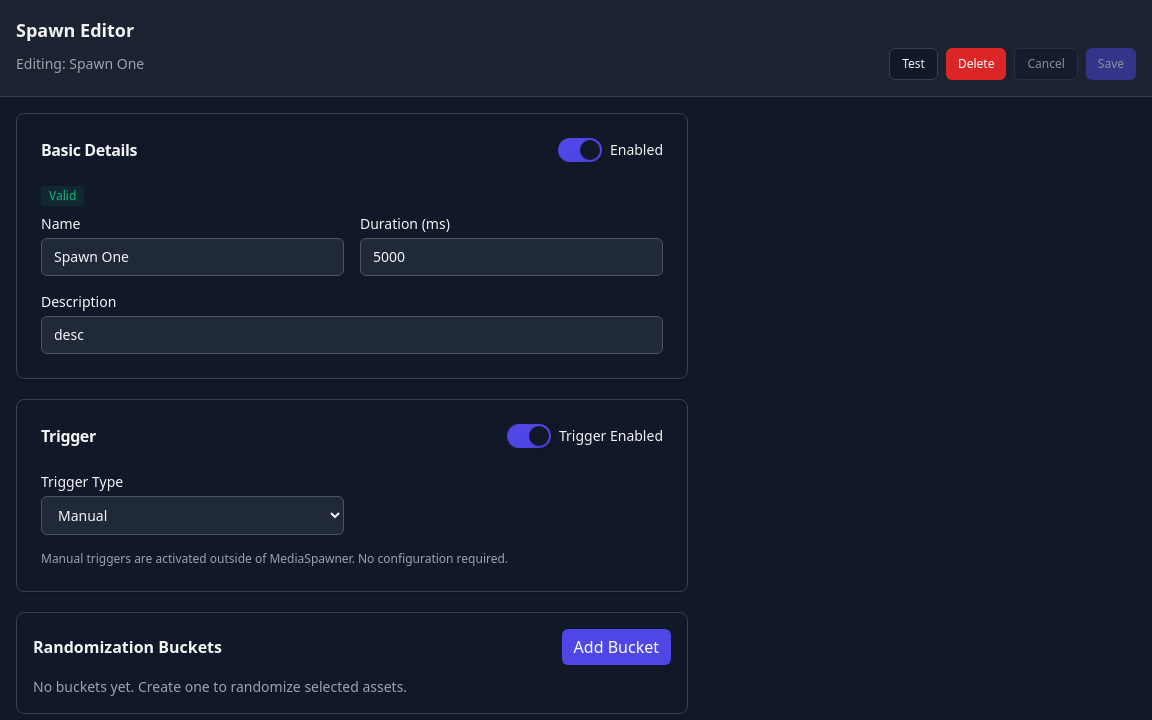
Scenario: SpawnEditorWorkspace (MS-44 Defaults) › cancel reverts form changes
This screenshot has width=1152, height=720.
Replace the text in the field labelled "Name" with "Changed Name" at (192, 257), box [41,238,344,276]
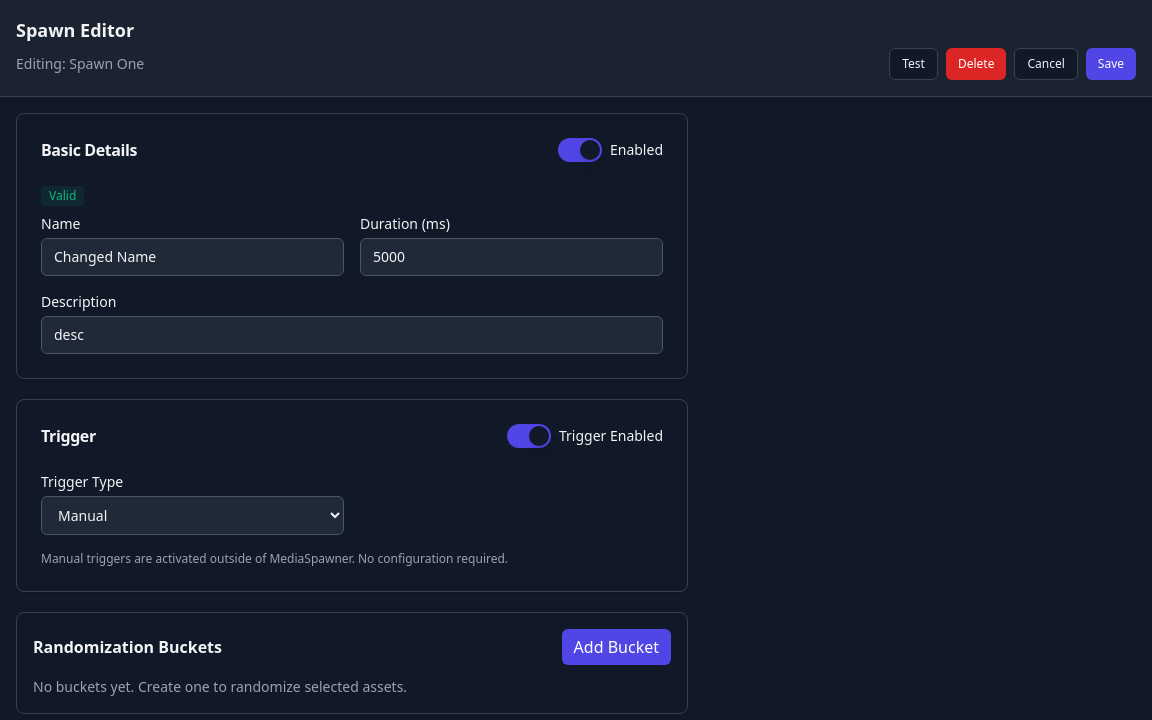
Click the button with aria-label "Cancel edits" at (1046, 64), box [1014,48,1078,80]
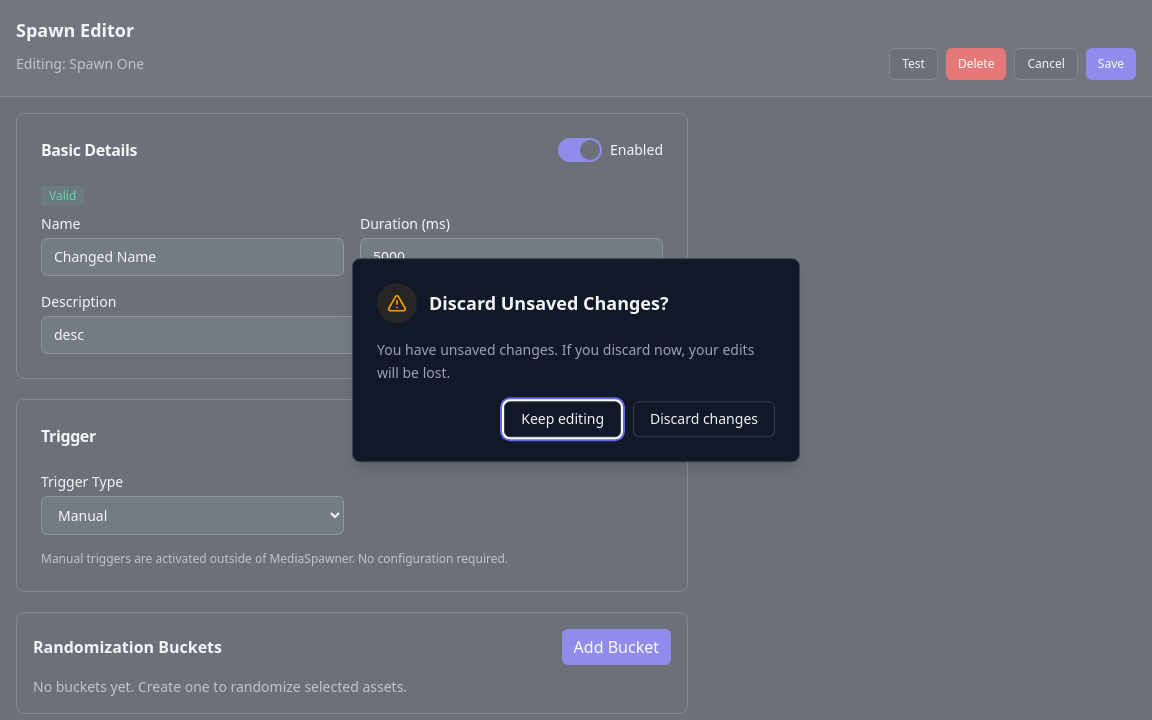
Click the button "Discard changes" at (704, 419), box [633,401,775,437]
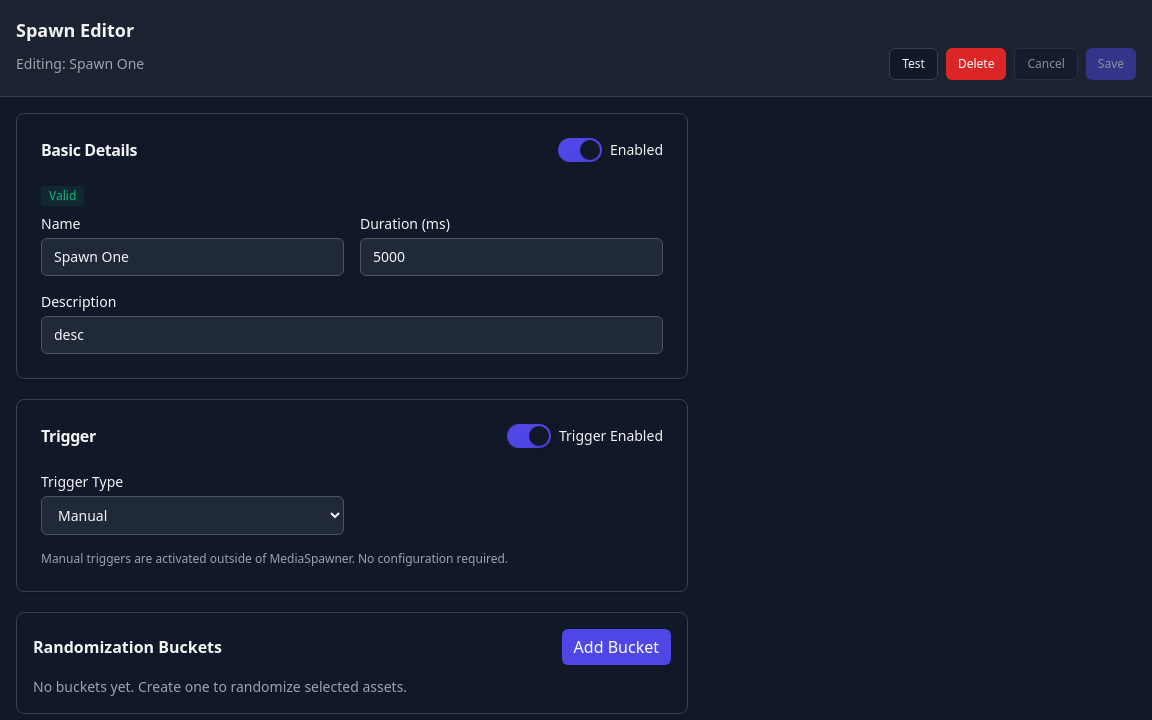
Expected: the field labelled "Name" holds "Spawn One", [41,238,344,276]
